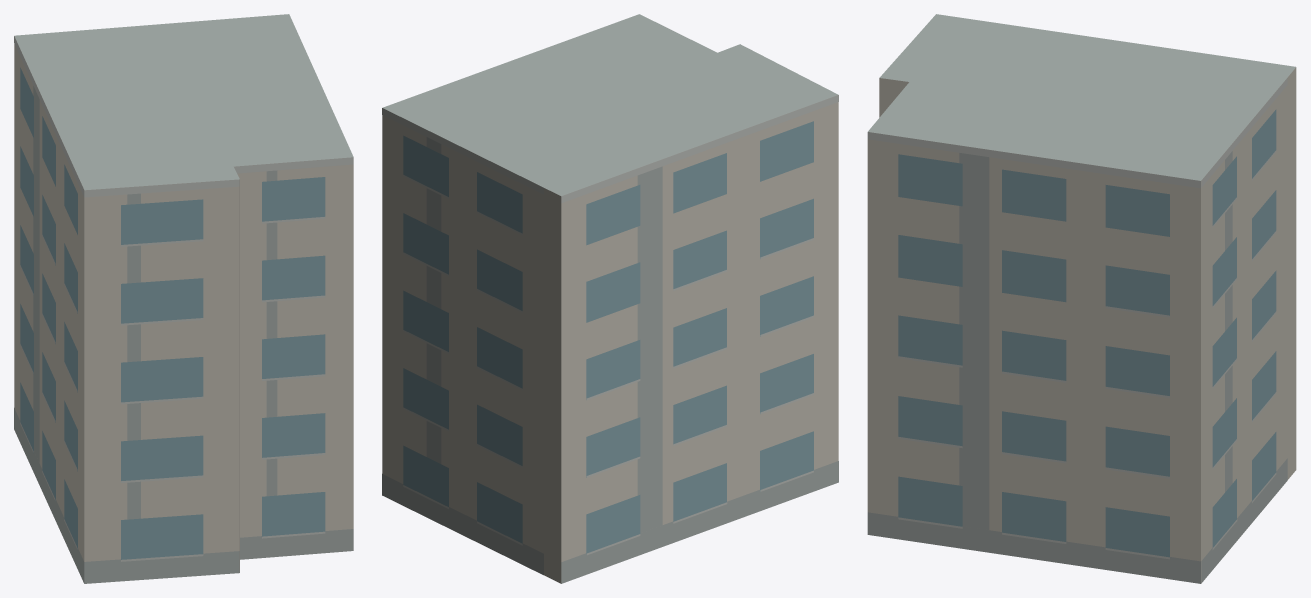
The model's file is survey-upis-32944913.glb.
3 renders of one model, left to right at view 1: azimuth 30°, elevation 25°; view 2: azimuth 150°, elevation 25°; view 3: azimuth 270°, elevation 25°, orthographic. The views are drawn at different scales.
Visible parts, largest first — view 1: survey-upis-32944913.tmp; view 2: survey-upis-32944913.tmp; view 3: survey-upis-32944913.tmp.
Boxes of the visible parts, left/top/right/bottom form: survey-upis-32944913.tmp: left=14, top=14, right=353, bottom=583; survey-upis-32944913.tmp: left=382, top=14, right=838, bottom=583; survey-upis-32944913.tmp: left=867, top=14, right=1296, bottom=583.
Size of the model in its own units: 11.78 by 13.25 by 12.79.
